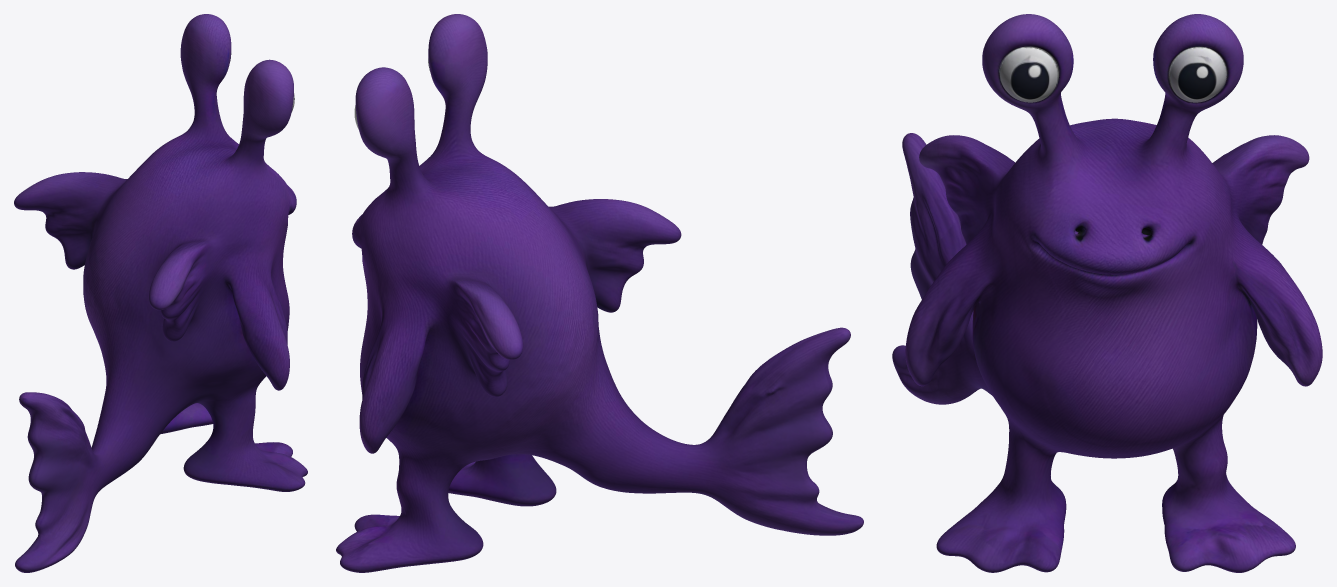
Rendered from monster3.glb.
3 views of the same model, side by side, from view 1: azimuth 30°, elevation 25°; view 2: azimuth 150°, elevation 25°; view 3: azimuth 270°, elevation 25° (orthographic). The views are drawn at different scales.
Parts seen in each view (by area): view 1: tripo_node_d53799f5-d485-4d18-b711-795da711a53f; view 2: tripo_node_d53799f5-d485-4d18-b711-795da711a53f; view 3: tripo_node_d53799f5-d485-4d18-b711-795da711a53f.
Part boxes in pixels (left/top/right/bottom): tripo_node_d53799f5-d485-4d18-b711-795da711a53f: left=14, top=14, right=307, bottom=572; tripo_node_d53799f5-d485-4d18-b711-795da711a53f: left=336, top=14, right=863, bottom=572; tripo_node_d53799f5-d485-4d18-b711-795da711a53f: left=892, top=14, right=1322, bottom=572.
Size of the model in its own units: 0.8986 by 1 by 0.7114.
Materials: 1 (1 with a texture image).
